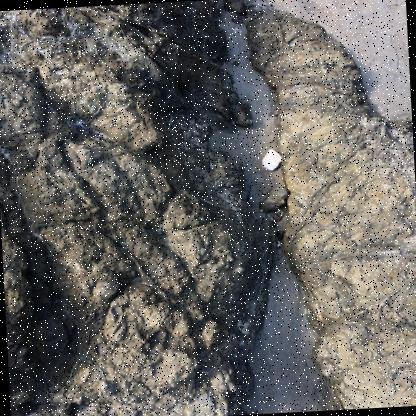Styrofoam piece: (262, 149, 281, 170)
